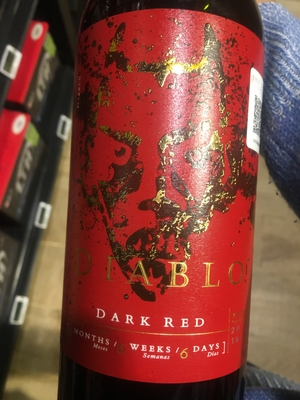diablo dark red: (59, 2, 275, 400)
